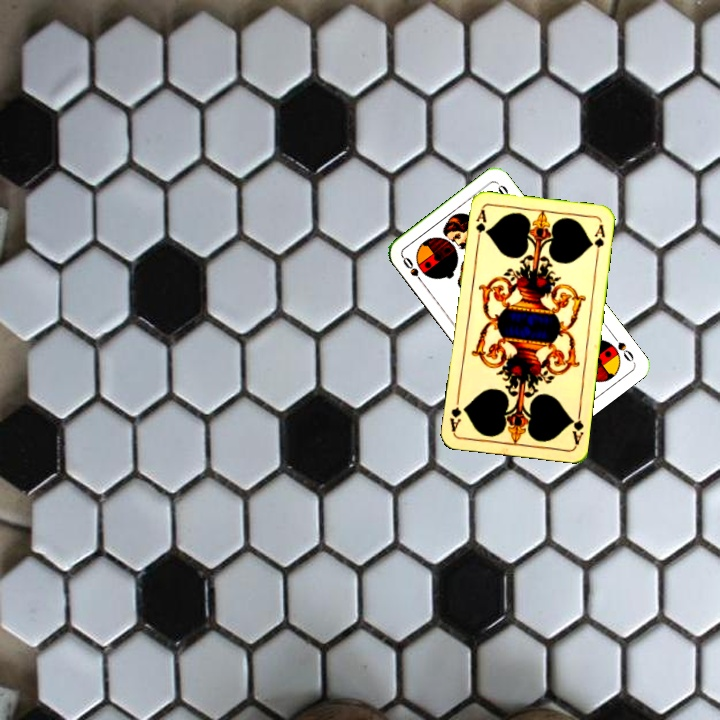GA: (567, 406, 586, 447), (471, 205, 489, 246)
SO: (398, 252, 427, 287), (608, 330, 637, 365)
